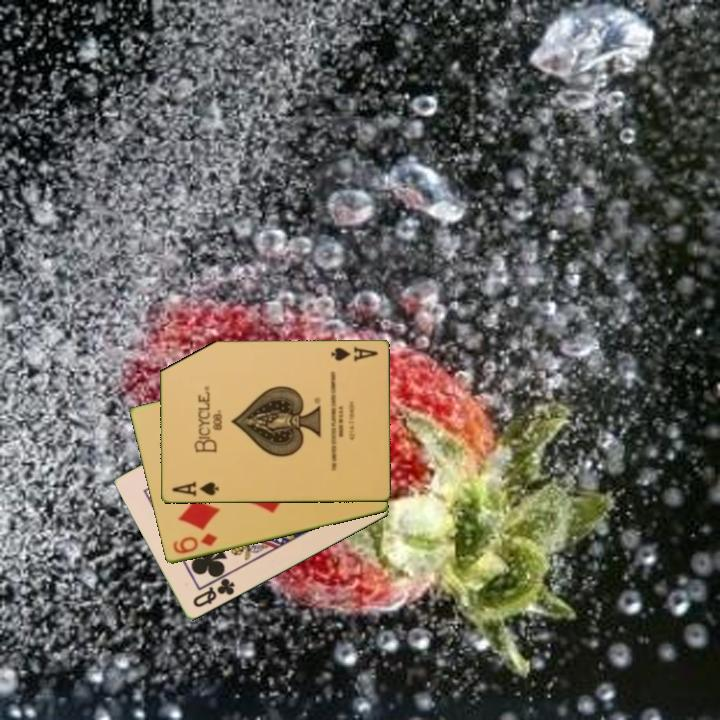6d: (169, 530, 220, 557)
As: (168, 478, 221, 499), (327, 343, 380, 364)
Qc: (189, 571, 238, 611)
